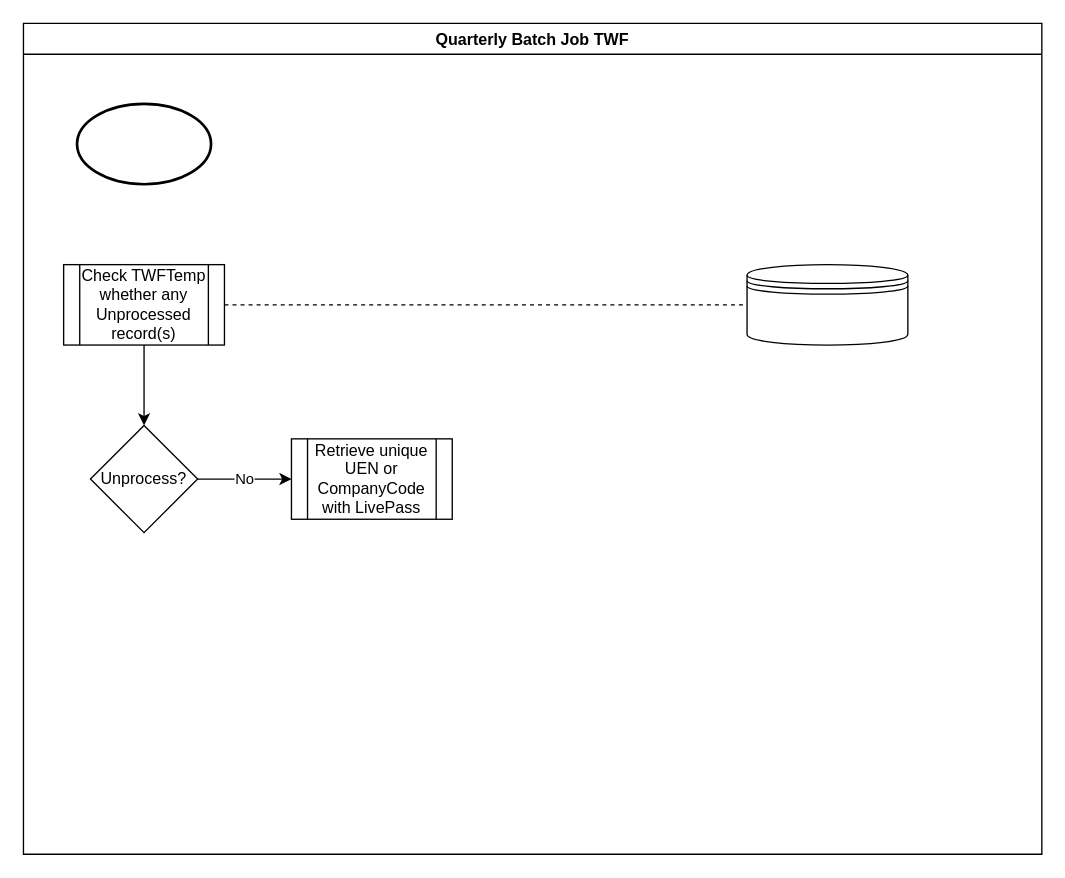
The diagram is 1065 pixels wide and 878 high, and some of its shapes have lost their labels. Each missing label, with the box of its shape:
Start: (75, 102, 212, 185)
TWFTemp: (746, 263, 908, 345)
